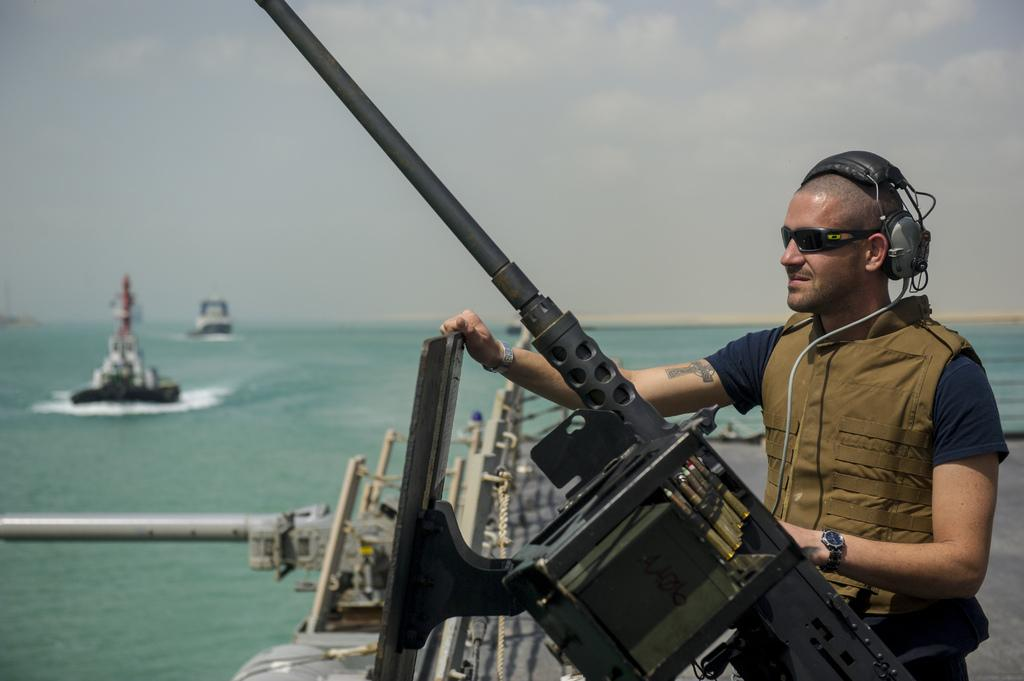non-violence: (440, 149, 1009, 677)
weapon: (252, 1, 916, 680)
